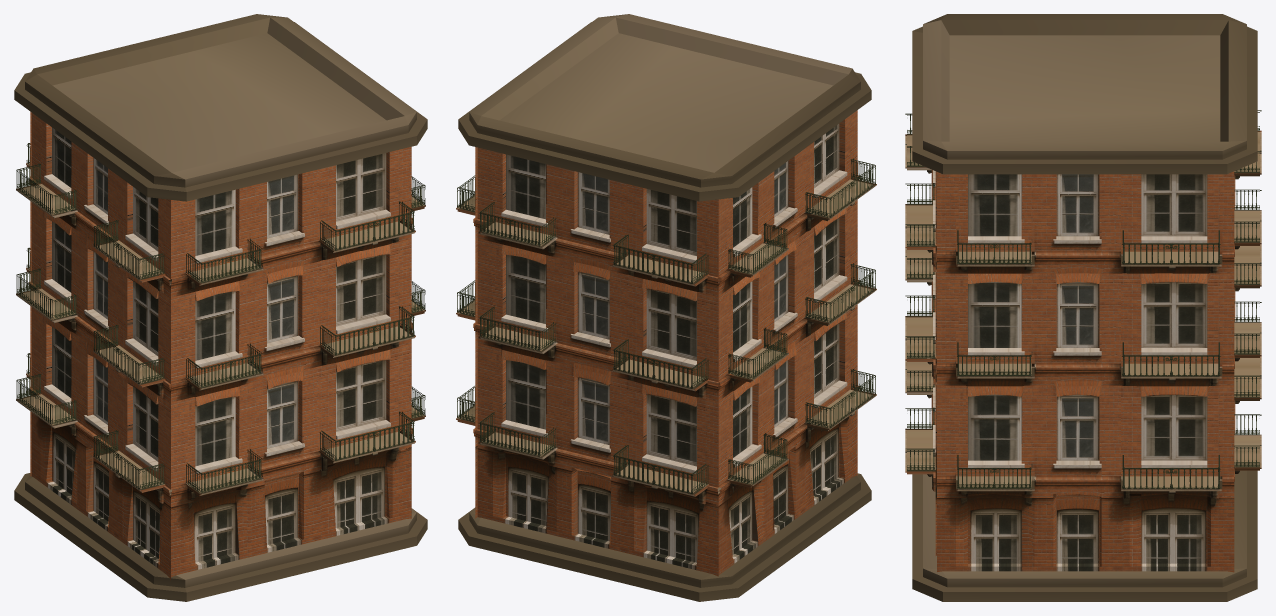
The model's file is Building_V1.fbx.
3 views of the same model, side by side, from view 1: azimuth 30°, elevation 25°; view 2: azimuth 150°, elevation 25°; view 3: azimuth 270°, elevation 25° (orthographic). The views are drawn at different scales.
Visible parts, largest first — view 1: Plane; view 2: Plane; view 3: Plane.
Boxes of the visible parts, x1,y1,x2,y2 form: Plane: [14, 14, 427, 601]; Plane: [456, 14, 876, 601]; Plane: [905, 14, 1261, 601].
Size of the model in its own units: 398 by 550 by 395.
